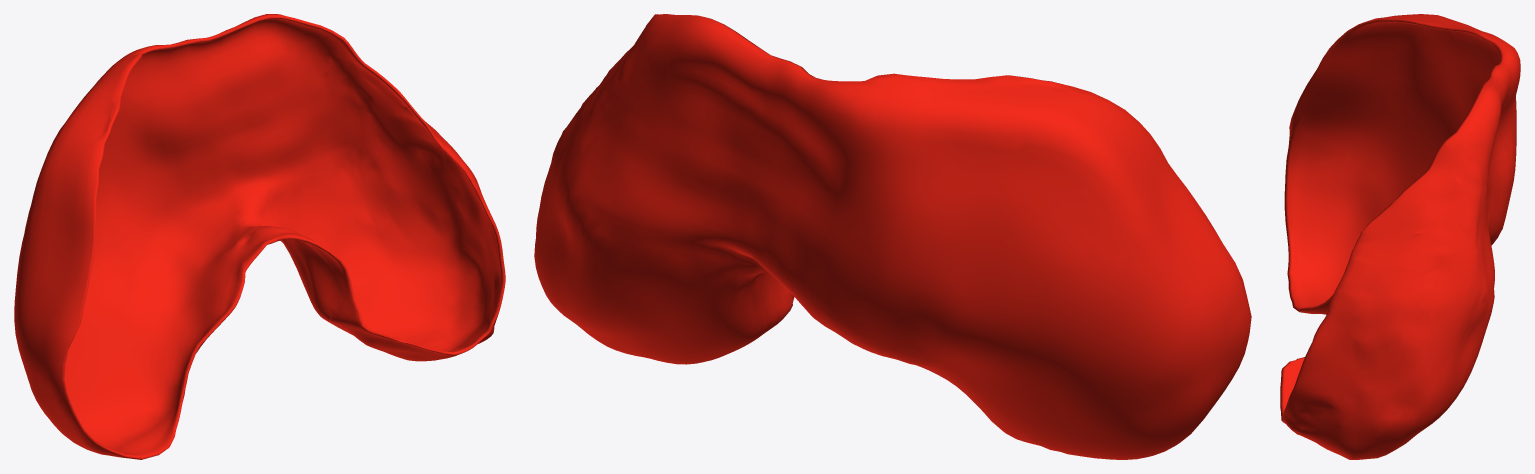
The model's file is Diaphragm.FBX.
3 views of the same model, side by side, from view 1: azimuth 30°, elevation 25°; view 2: azimuth 150°, elevation 25°; view 3: azimuth 270°, elevation 25° (orthographic). The views are drawn at different scales.
Visible parts, largest first — view 1: Diaphragm-Snapshot-Snapshot; view 2: Diaphragm-Snapshot-Snapshot; view 3: Diaphragm-Snapshot-Snapshot.
Part boxes in pixels (x1,y1,x2,y2): Diaphragm-Snapshot-Snapshot: (14, 14, 505, 459); Diaphragm-Snapshot-Snapshot: (534, 14, 1251, 459); Diaphragm-Snapshot-Snapshot: (1280, 14, 1520, 459).
Size of the model in its own units: 262 by 115 by 170.
